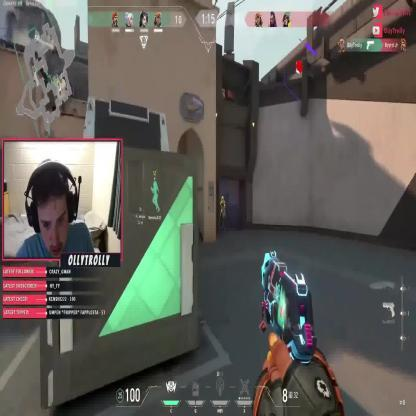enemy: (219, 195, 227, 232)
enemy_head: (221, 194, 224, 203)
